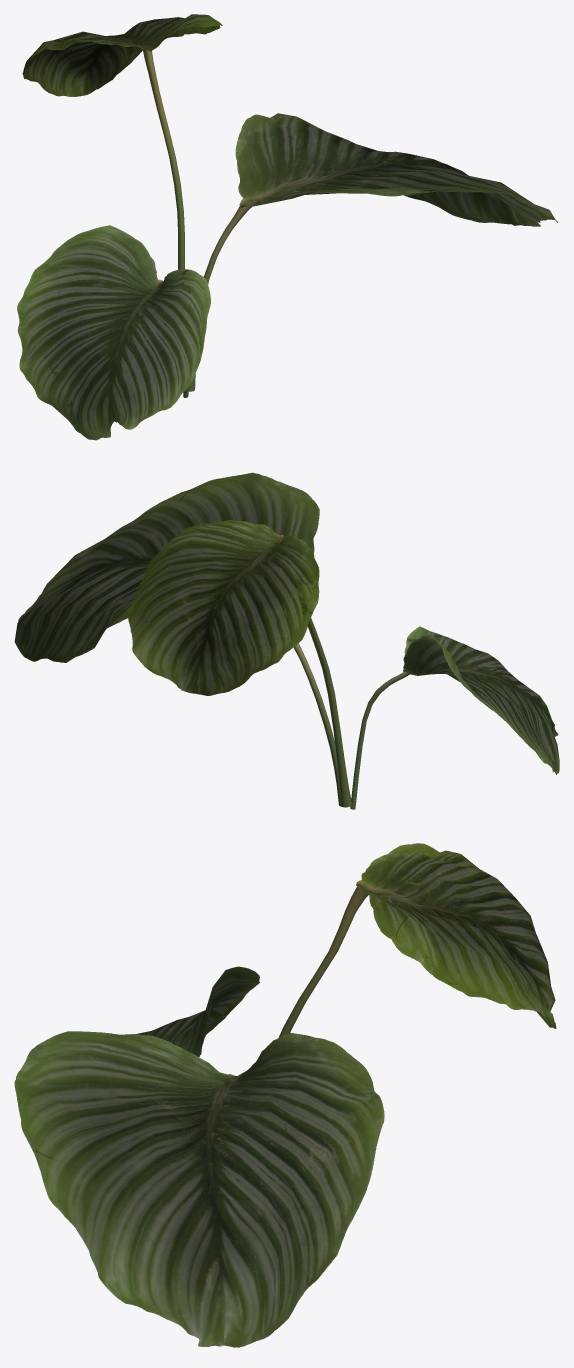
The model's file is calathea_orbifolia_01_04.glb.
The picture shows the model from 3 angles, top to bottom: view 1: azimuth 30°, elevation 25°; view 2: azimuth 150°, elevation 25°; view 3: azimuth 270°, elevation 25°; orthographic projection. The views are drawn at different scales.
Parts seen in each view (by area): view 1: calathea_orbifolia_01; view 2: calathea_orbifolia_01; view 3: calathea_orbifolia_01.
Boxes of the visible parts, box(x1,y1,x2,y2) form: calathea_orbifolia_01: box(17, 14, 558, 440); calathea_orbifolia_01: box(14, 472, 559, 809); calathea_orbifolia_01: box(14, 843, 556, 1347).
Size of the model in its own units: 0.2264 by 0.1304 by 0.1631.
Materials: 1 (1 with a texture image).
